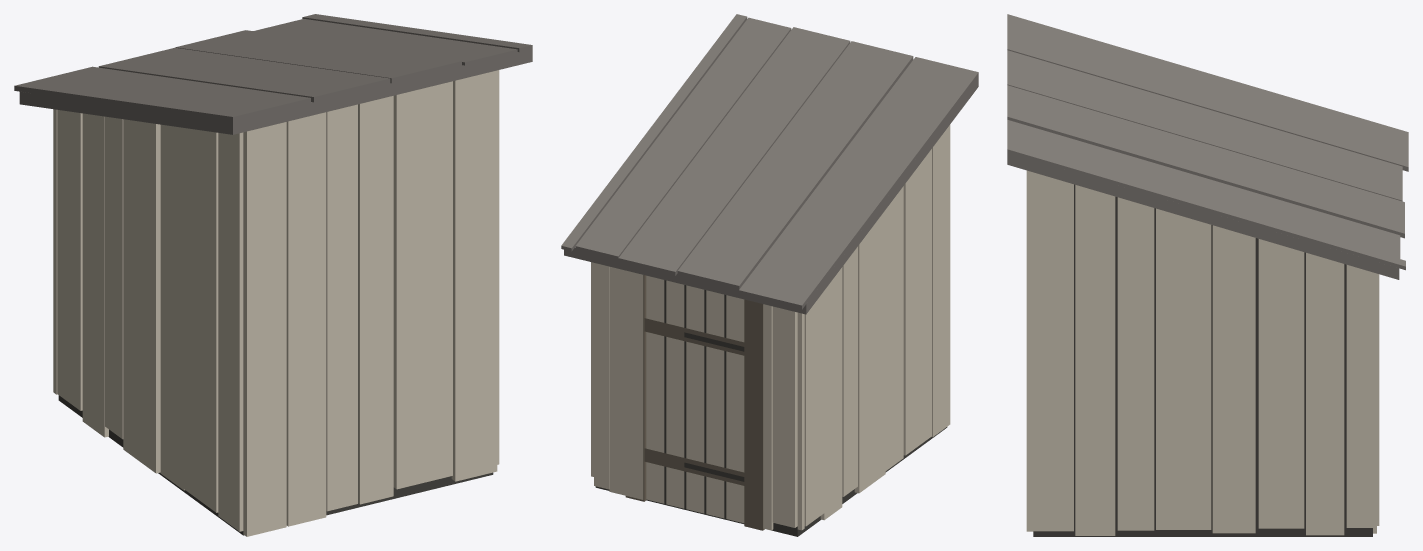
The model's file is recon_1835_blk_south_water_clark_a3_07__inferred_1835.glb.
3 views of the same model, side by side, from view 1: azimuth 30°, elevation 25°; view 2: azimuth 150°, elevation 25°; view 3: azimuth 270°, elevation 25° (orthographic). The views are drawn at different scales.
Visible parts, largest first — view 1: recon_1835_blk_south_water_clark_a3_07__inferred_1835; view 2: recon_1835_blk_south_water_clark_a3_07__inferred_1835; view 3: recon_1835_blk_south_water_clark_a3_07__inferred_1835.
Boxes of the visible parts, x1,y1,x2,y2 form: recon_1835_blk_south_water_clark_a3_07__inferred_1835: [14, 14, 532, 536]; recon_1835_blk_south_water_clark_a3_07__inferred_1835: [561, 14, 978, 536]; recon_1835_blk_south_water_clark_a3_07__inferred_1835: [1007, 14, 1408, 536].
Bounding box in the file's own units: 2.08 × 2.89 × 2.63.
